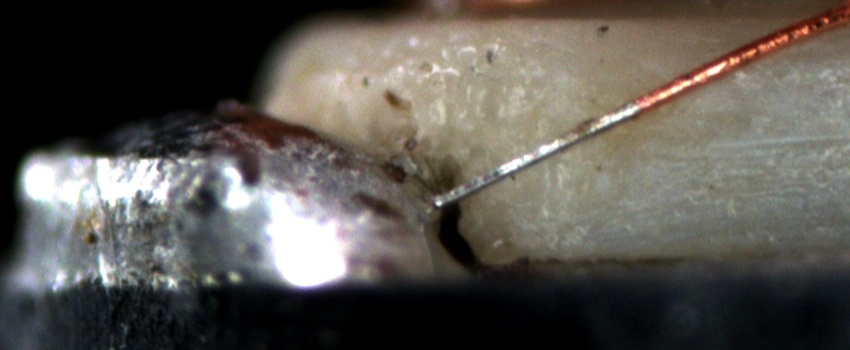DL: (664, 113, 850, 172)
TS: (434, 100, 640, 208)
